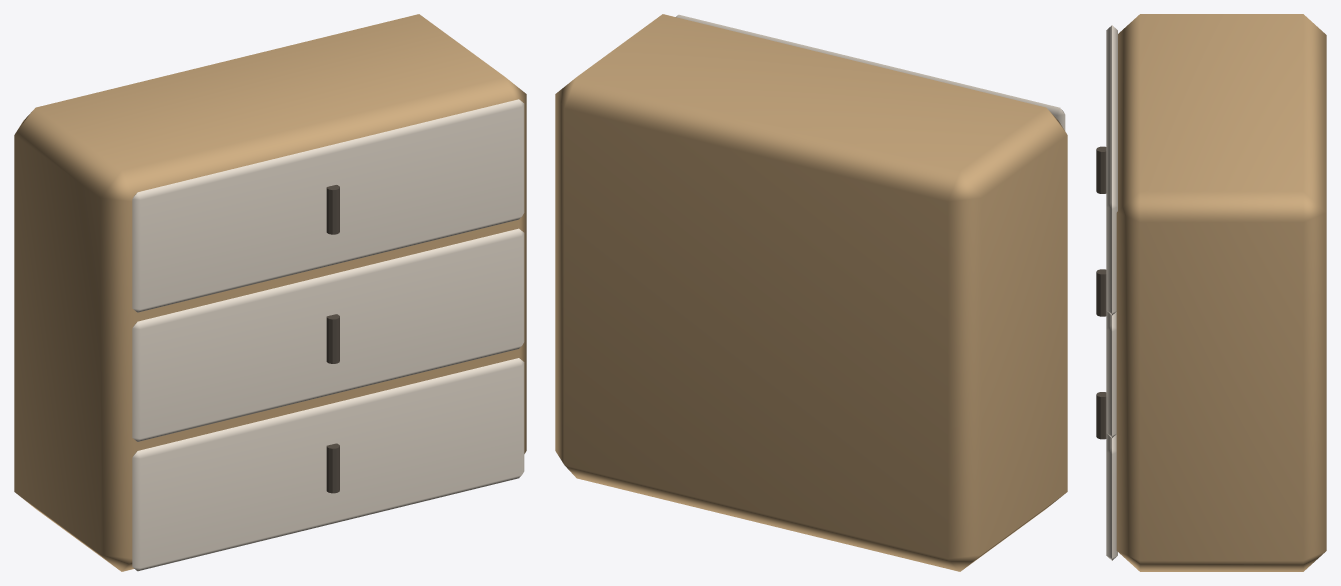
File: cabinet.glb
3 renders of one model, left to right at view 1: azimuth 30°, elevation 25°; view 2: azimuth 150°, elevation 25°; view 3: azimuth 270°, elevation 25°, orthographic. The views are drawn at different scales.
Parts seen in each view (by area): view 1: body, drawer_1, drawer_2, drawer_0, handle_0, handle_1, handle_2; view 2: body, drawer_2; view 3: body, drawer_2, drawer_0, drawer_1, handle_0, handle_2, handle_1.
Part boxes in pixels (x1,y1,x2,y2): body: (14,14,526,571); drawer_1: (132,228,524,441); drawer_2: (132,99,524,312); drawer_0: (132,358,524,571); handle_0: (326,443,339,493); handle_1: (326,314,339,363); handle_2: (326,185,339,234); body: (555,14,1067,571); drawer_2: (676,14,1065,130); body: (1116,14,1326,571); drawer_2: (1106,25,1117,315); drawer_0: (1106,433,1117,560); drawer_1: (1106,311,1116,437); handle_0: (1096,392,1106,439); handle_2: (1096,146,1106,193); handle_1: (1096,269,1106,316).
Size of the model in its own units: 1 by 0.9 by 0.494.
